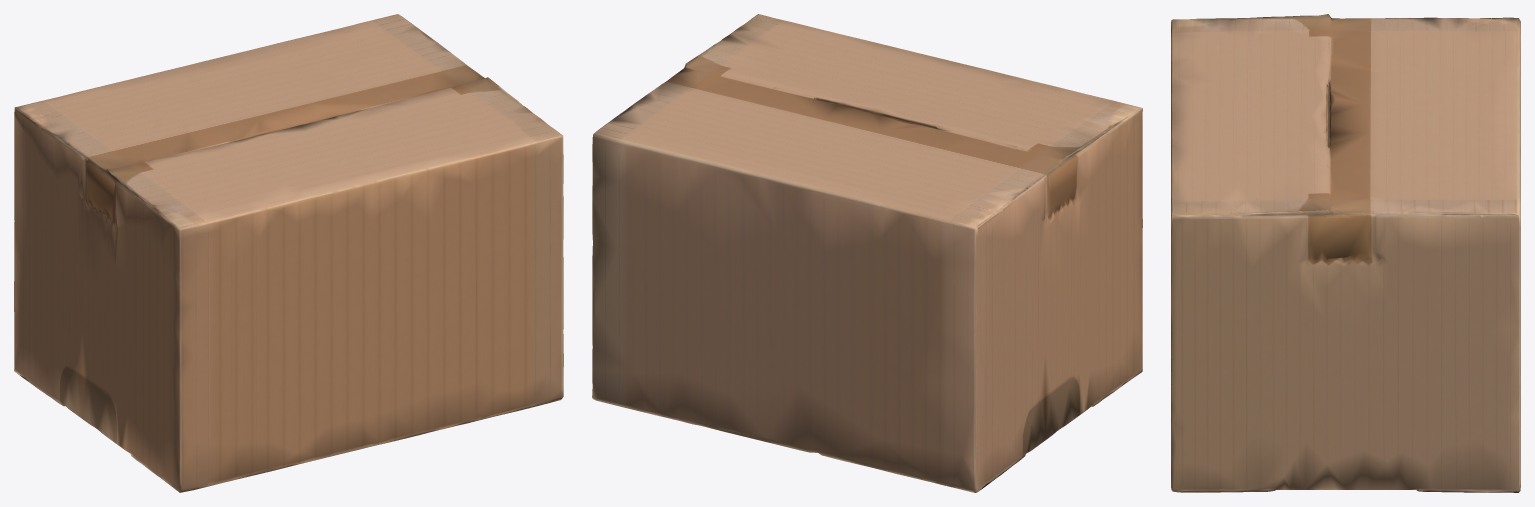
Rendered from Meshy_AI_Sealed_Cardboard_Box_0403034721_texture.fbx.
3 renders of one model, left to right at view 1: azimuth 30°, elevation 25°; view 2: azimuth 150°, elevation 25°; view 3: azimuth 270°, elevation 25°, orthographic. The views are drawn at different scales.
Visible parts, largest first — view 1: Mesh_0; view 2: Mesh_0; view 3: Mesh_0.
Part boxes in pixels (x1,y1,x2,y2): Mesh_0: (14,14,563,492); Mesh_0: (592,14,1142,492); Mesh_0: (1171,14,1520,492).
Bounding box in the file's own units: 200 × 134 × 150.
Materials: 1 (1 with a texture image).
